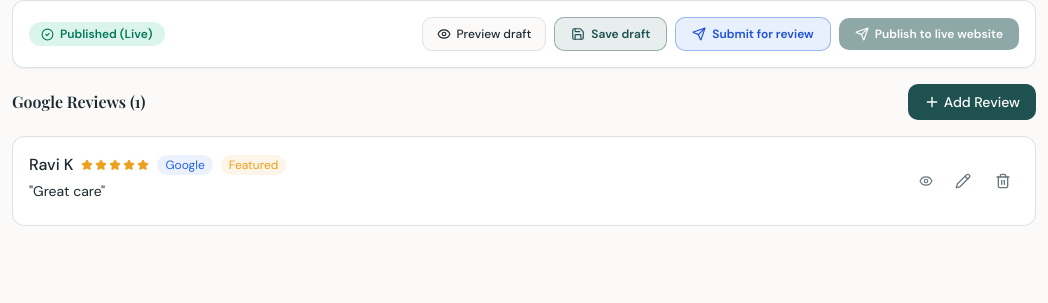
Collection draft workflow (005d) › TESTIMONIALS-01: hiding a review is a draft change, not a live write
Expected: the text "Ravi K" is shown, [29,153,74,177]
Click the button named "hide on website (draft)": {"x": 926, "y": 181} [913,168,939,194]
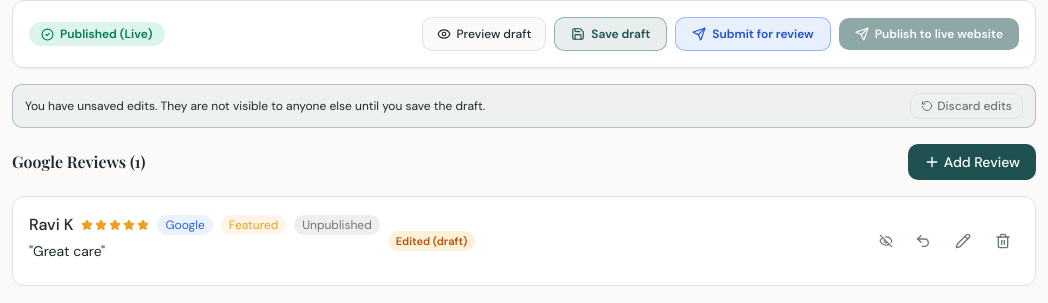
Expected: the text "Edited (draft)" is shown, [388,231,476,251]
